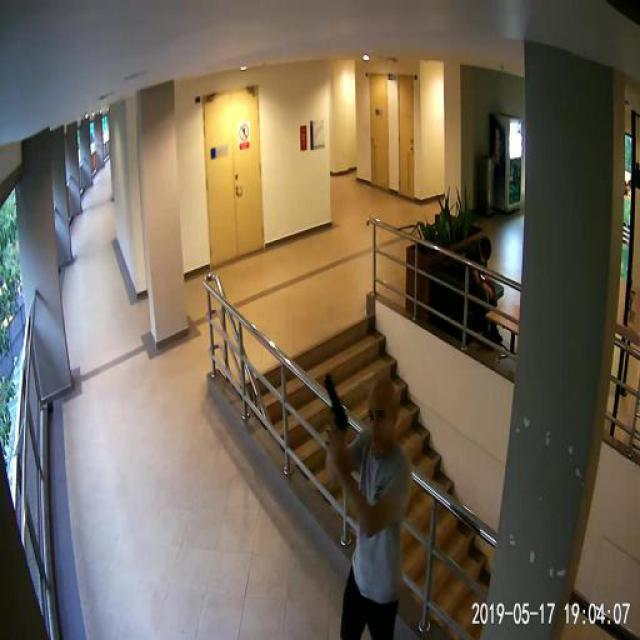weapon: (320, 372, 350, 436)
